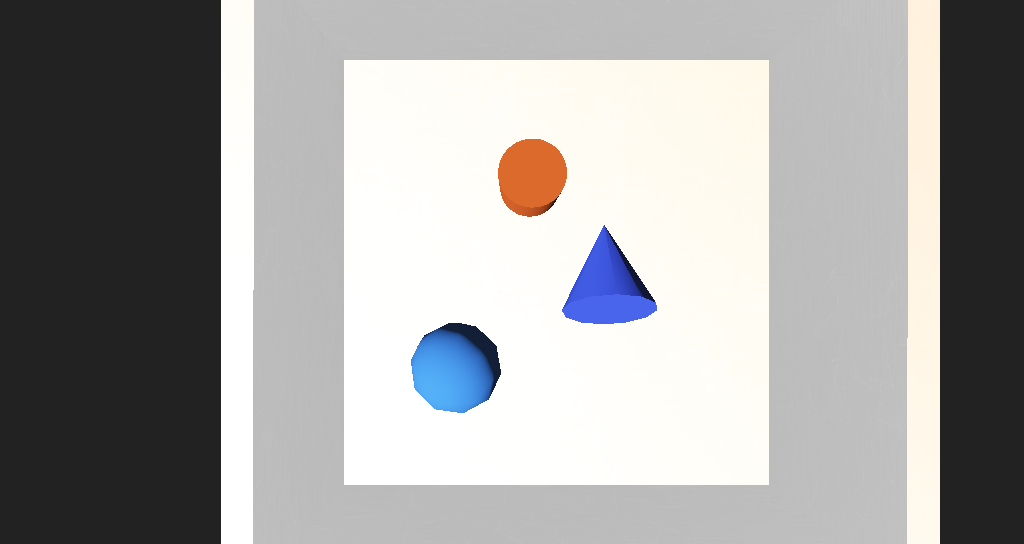cone: (461, 208, 509, 241)
cylinder: (505, 236, 573, 298)
sphere: (408, 291, 468, 339)
